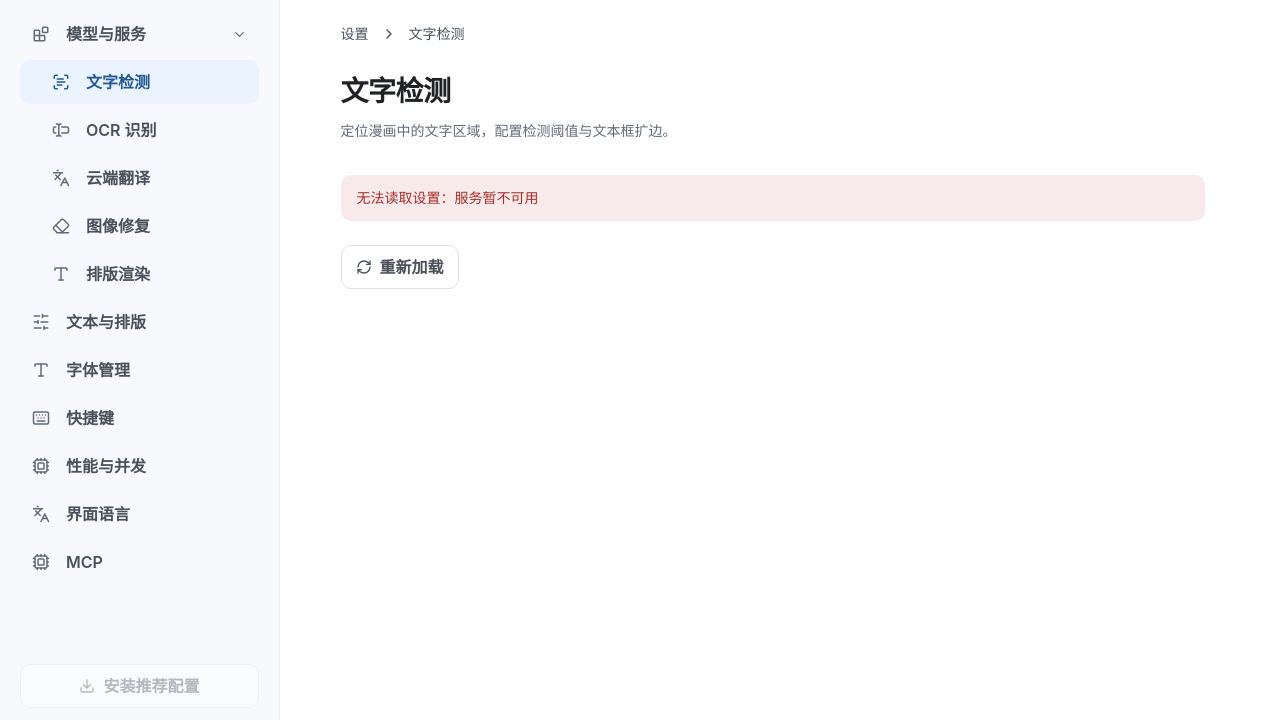
settings workspace › provides a retry instead of exposing empty forms after an initial request fails
expect the message shows "服务暂不可用": met, box [454,189,538,206]
Click the button "重新加载" at (400, 267), box [340,245,458,289]
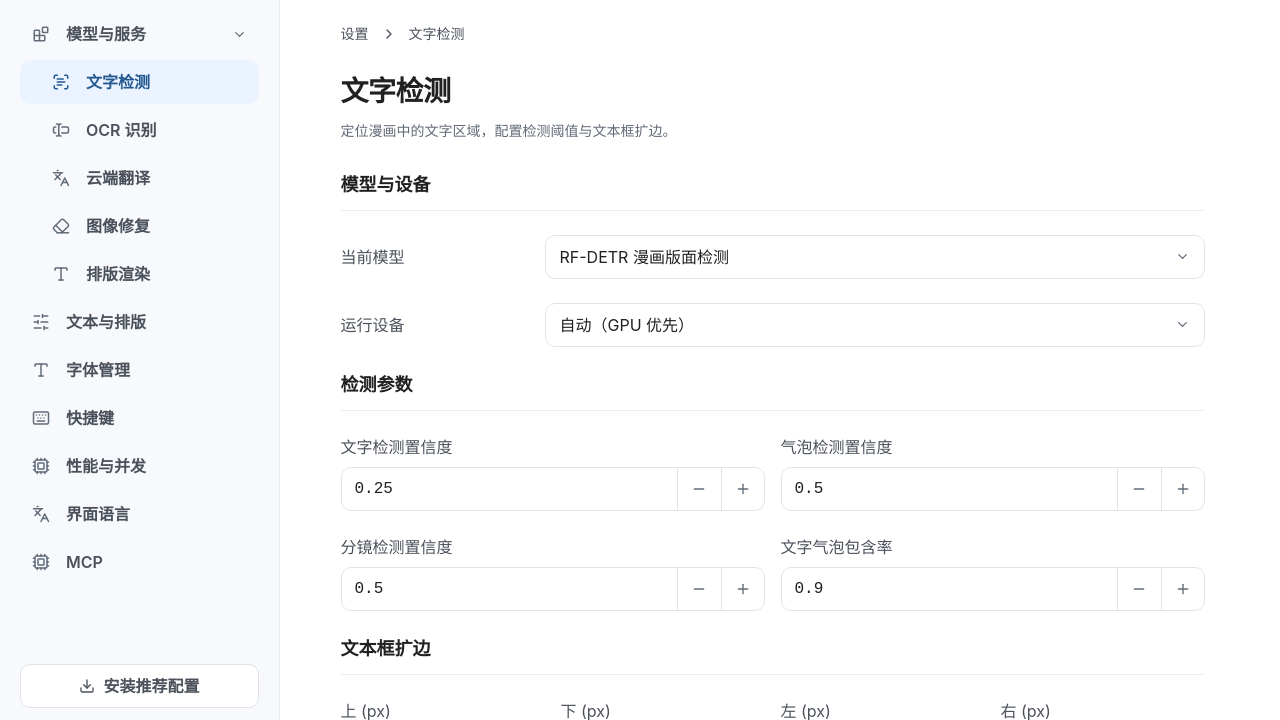
expect the field labelled "文字检测置信度" is shown: met, box [340,467,676,511]
